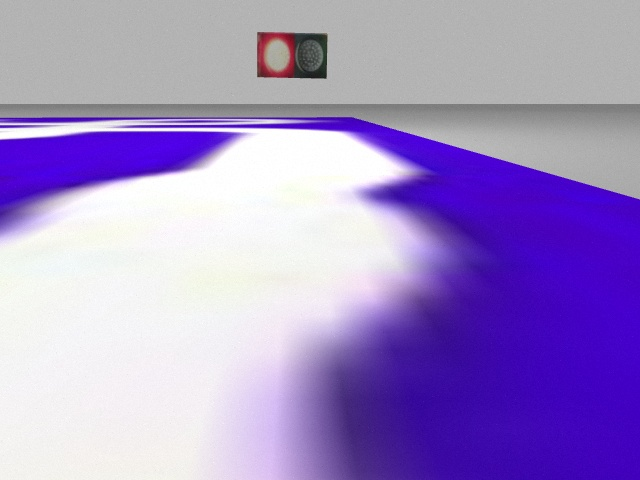red: (255, 31, 296, 77)
